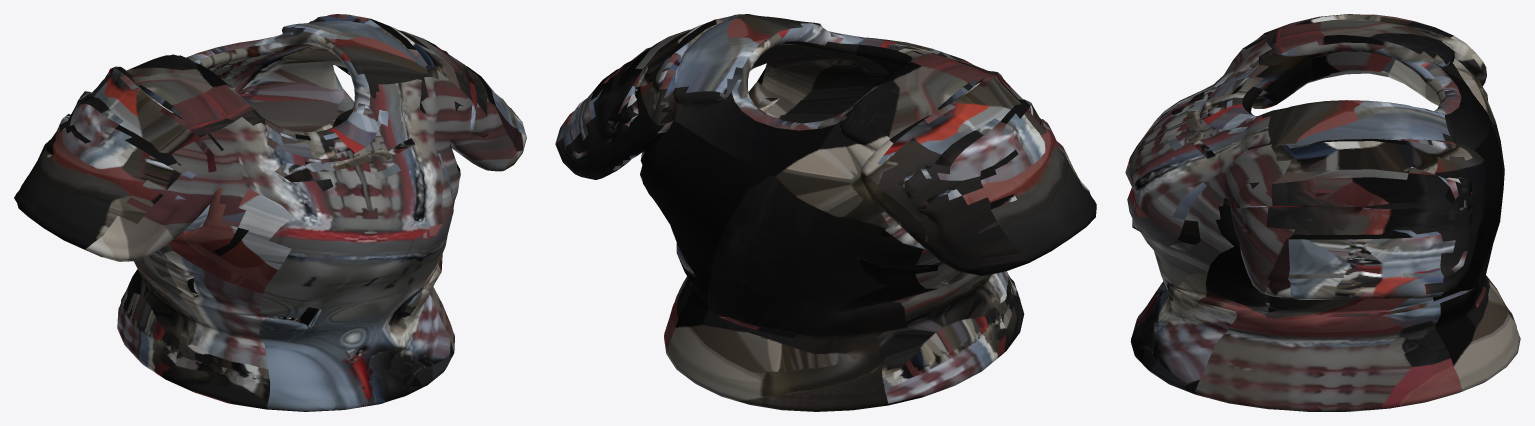
Rendered from guofengjia4.fbx.
3 views of the same model, side by side, from view 1: azimuth 30°, elevation 25°; view 2: azimuth 150°, elevation 25°; view 3: azimuth 270°, elevation 25° (orthographic). The views are drawn at different scales.
Visible parts, largest first — view 1: Mesh0; view 2: Mesh0; view 3: Mesh0.
Boxes of the visible parts, x1,y1,x2,y2 form: Mesh0: [14, 14, 526, 411]; Mesh0: [555, 14, 1096, 411]; Mesh0: [1125, 14, 1520, 411].
Bounding box in the file's own units: 1.1 × 0.606 × 0.787.
